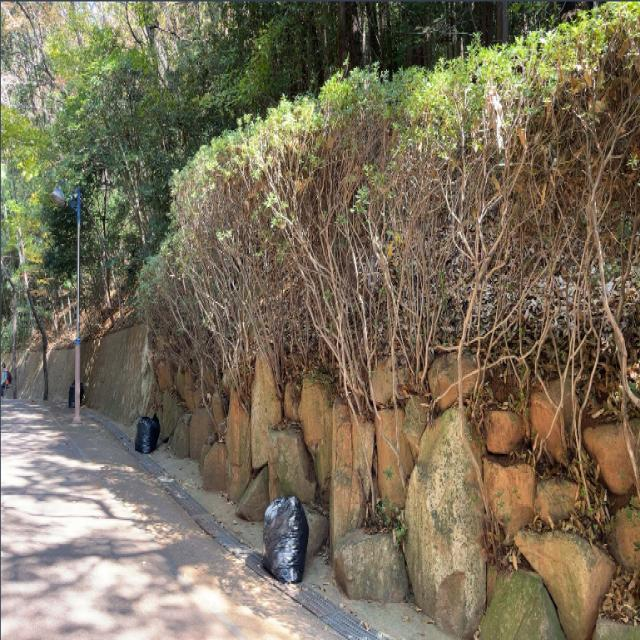Trashbag: (259, 494, 314, 583), (132, 414, 162, 455)
